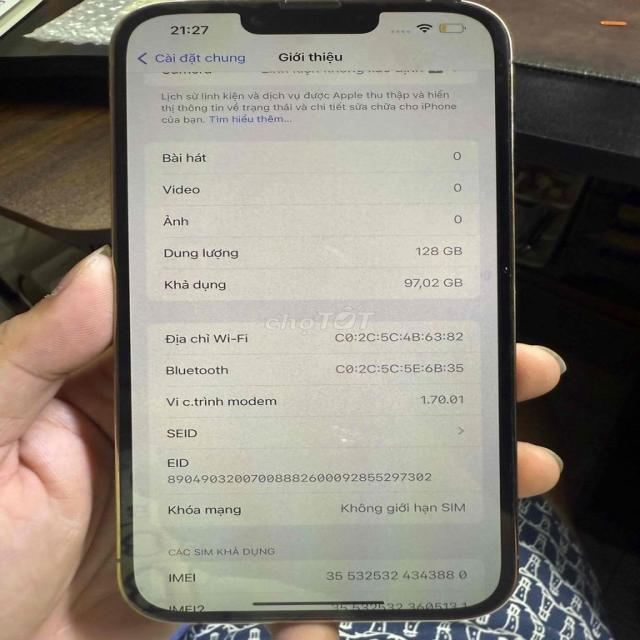gen_12_13: (100, 0, 524, 627)
